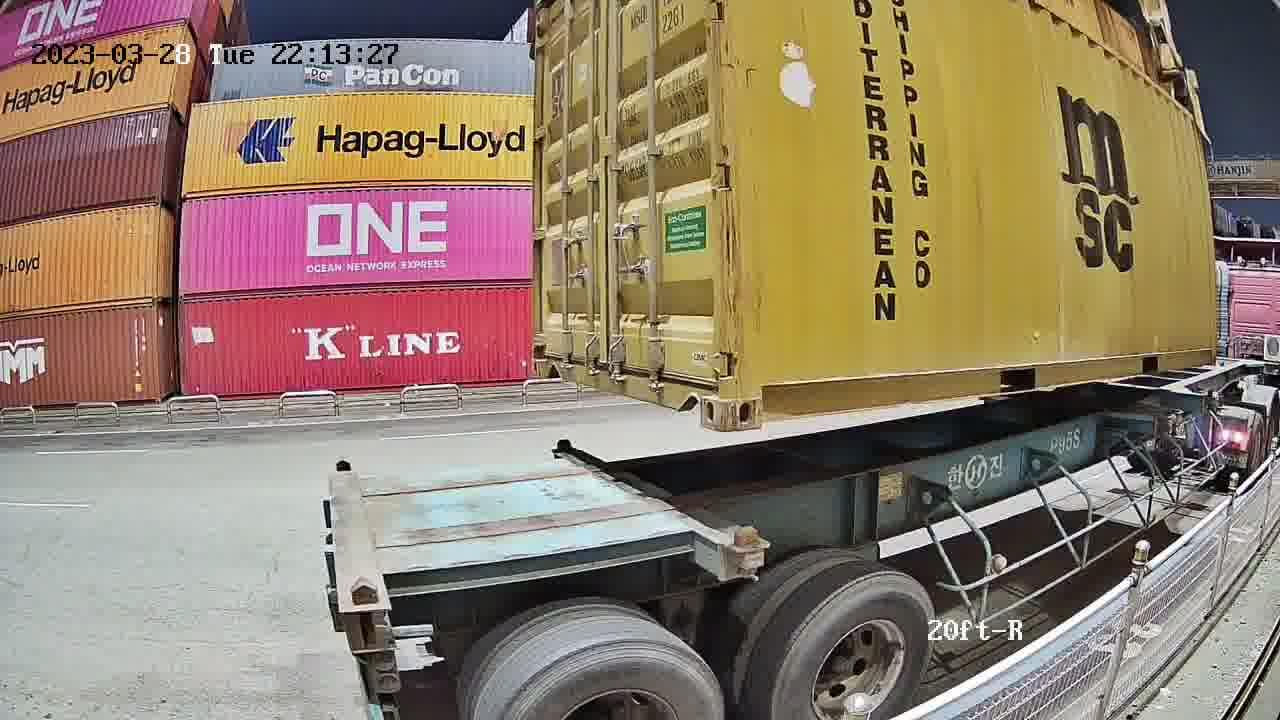Chassis: (554, 448, 771, 580)
Cone: (731, 526, 763, 583), (555, 438, 572, 453)
Hole_L: (725, 361, 792, 432), (531, 336, 565, 382)
Hole_R: (672, 359, 724, 433)
Tire: (771, 572, 935, 719), (492, 631, 723, 715)
